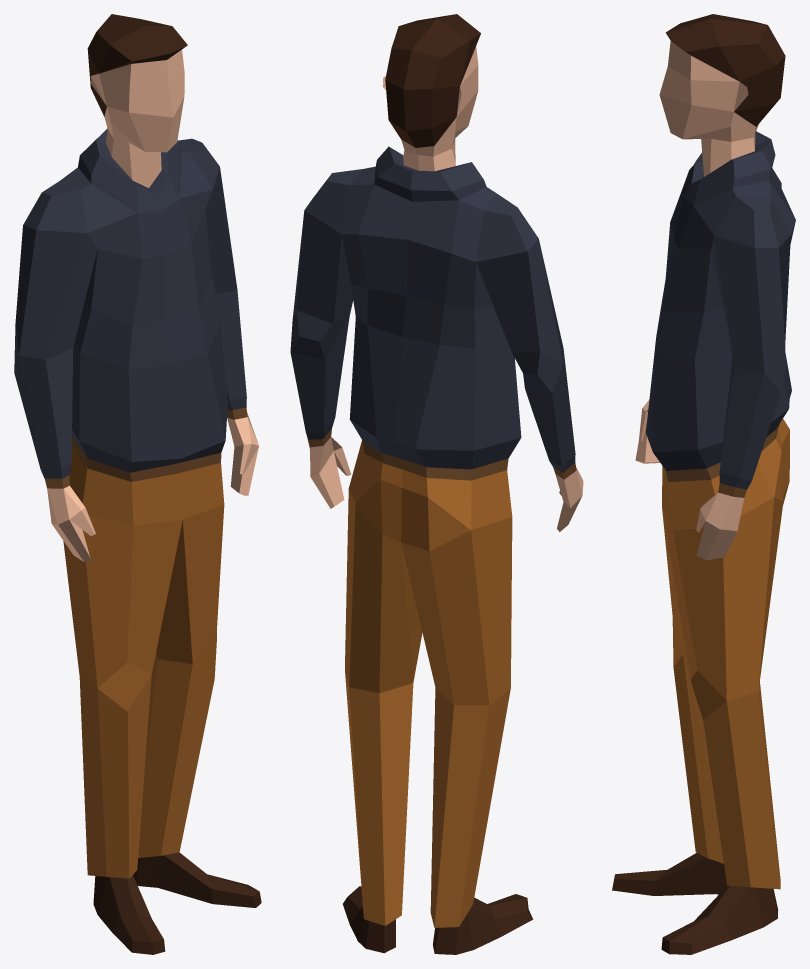
File: AutumnManA.001.glb
The picture shows the model from 3 angles, left to right: view 1: azimuth 30°, elevation 25°; view 2: azimuth 150°, elevation 25°; view 3: azimuth 270°, elevation 25°; orthographic projection. The views are drawn at different scales.
Parts seen in each view (by area): view 1: AutumnManA.001; view 2: AutumnManA.001; view 3: AutumnManA.001.
Part boxes in pixels (left/top/right/bottom): AutumnManA.001: left=14, top=14, right=261, bottom=954; AutumnManA.001: left=290, top=14, right=583, bottom=954; AutumnManA.001: left=612, top=14, right=795, bottom=954.
Size of the model in its own units: 0.4932 by 1.75 by 0.3286.
Materials: 1 (1 with a texture image).
